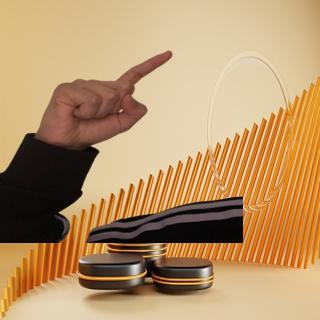WHY: (34, 42, 174, 150)
